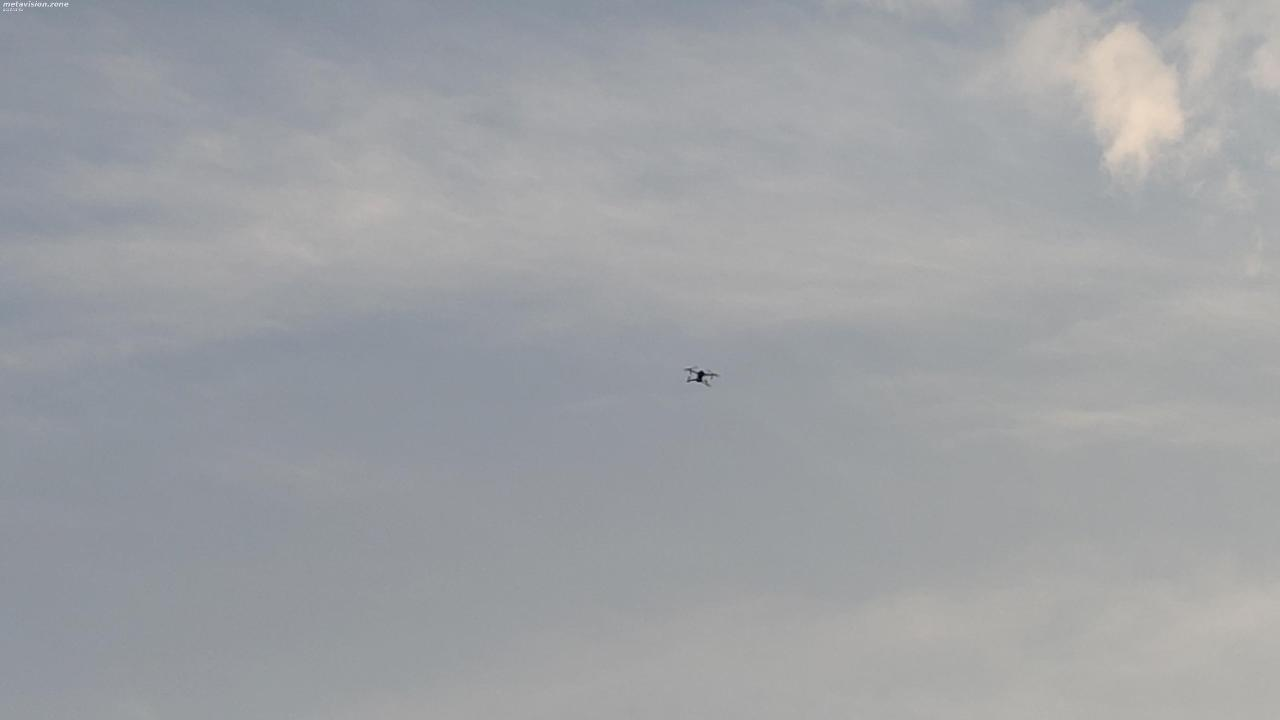drone: (683, 359, 722, 391)
